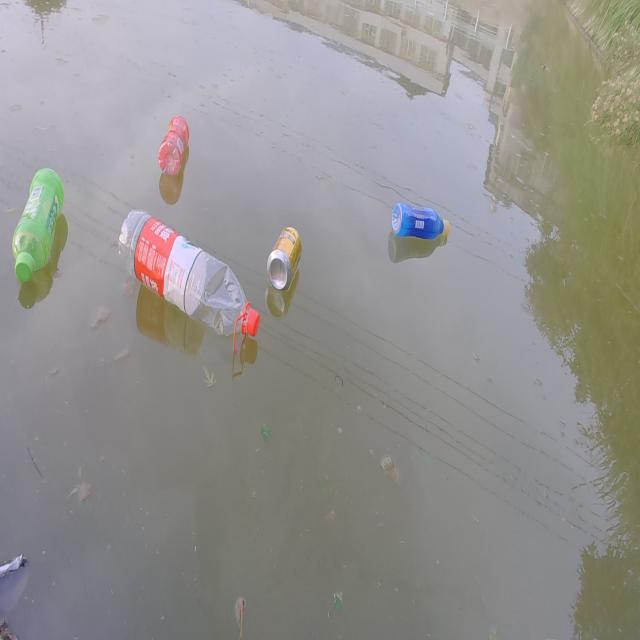garbage: (118, 206, 260, 342), (12, 166, 65, 282), (266, 225, 302, 292), (391, 201, 449, 240), (158, 114, 190, 177)
